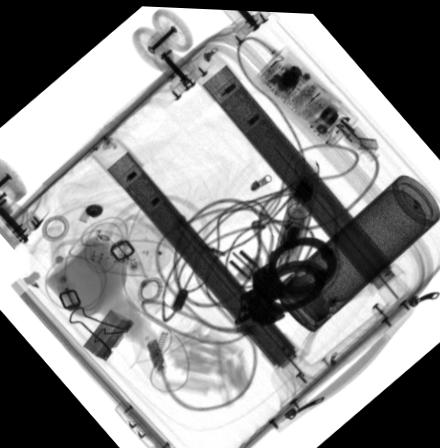Baton: (263, 151, 319, 276)
HandCuffs: (235, 234, 336, 324)
